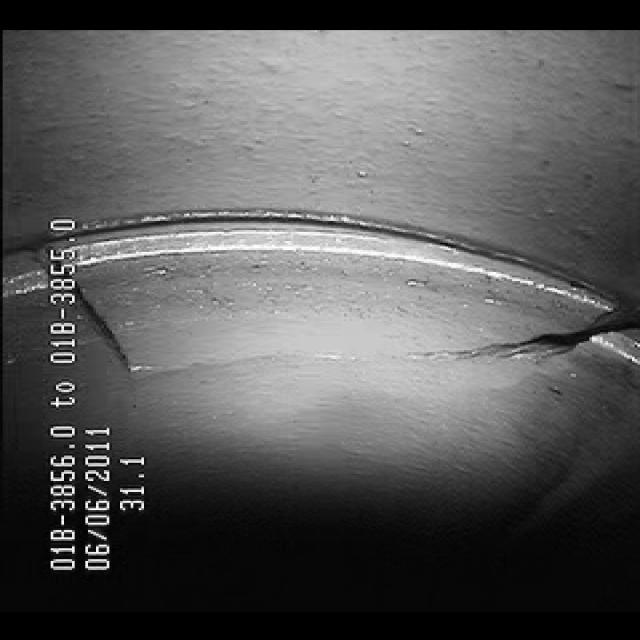Fracture: (123, 307, 559, 397)
